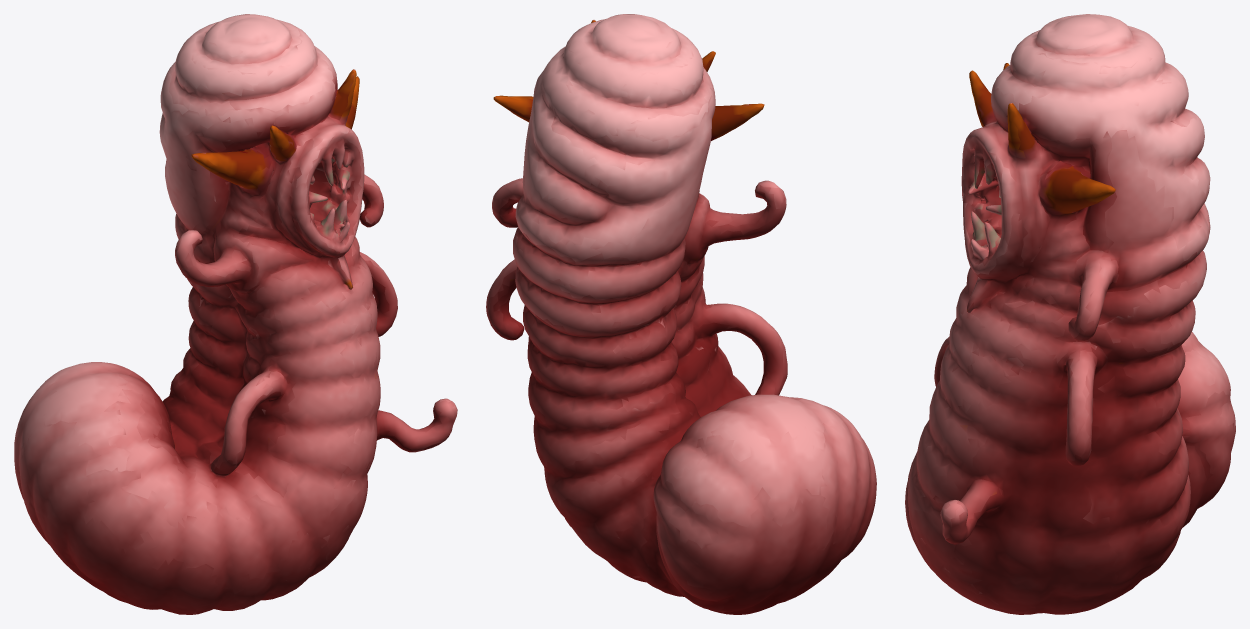
The model's file is SARGC1.obj.
3 views of the same model, side by side, from view 1: azimuth 30°, elevation 25°; view 2: azimuth 150°, elevation 25°; view 3: azimuth 270°, elevation 25° (orthographic). The views are drawn at different scales.
Bounding box in the file's own units: 0.7006 × 1 × 0.503.
Materials: 1 (1 with a texture image).
